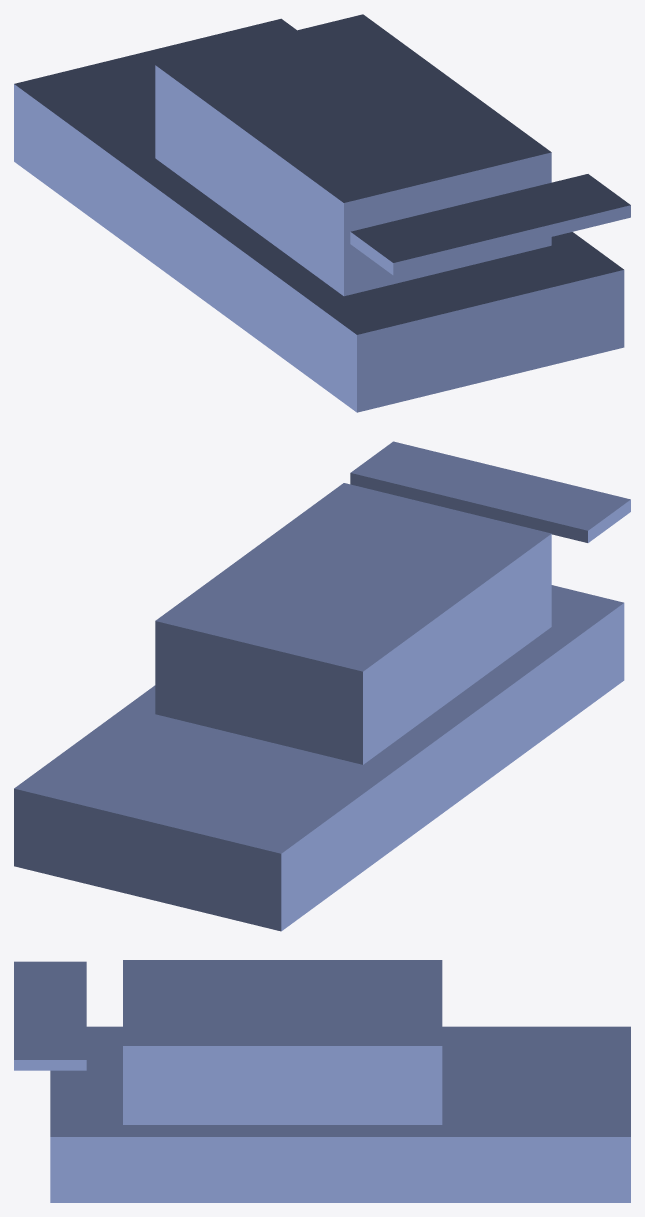
The model's file is car.obj.
3 views of the same model, one above another, from view 1: azimuth 30°, elevation 25°; view 2: azimuth 150°, elevation 25°; view 3: azimuth 270°, elevation 25° (orthographic). The views are drawn at different scales.
Visible parts, largest first — view 1: body, cabin, spoiler; view 2: body, cabin, spoiler; view 3: body, cabin, spoiler.
Part boxes in pixels (x1,y1,x2,y2): body: [14, 18, 624, 412]; cabin: [155, 14, 551, 296]; spoiler: [350, 174, 630, 275]; body: [14, 585, 624, 931]; cabin: [155, 483, 551, 764]; spoiler: [350, 441, 630, 542]; body: [50, 1026, 630, 1202]; cabin: [123, 960, 442, 1124]; spoiler: [14, 961, 86, 1070].
Size of the model in its own units: 2.7 by 1.65 by 6.38.
